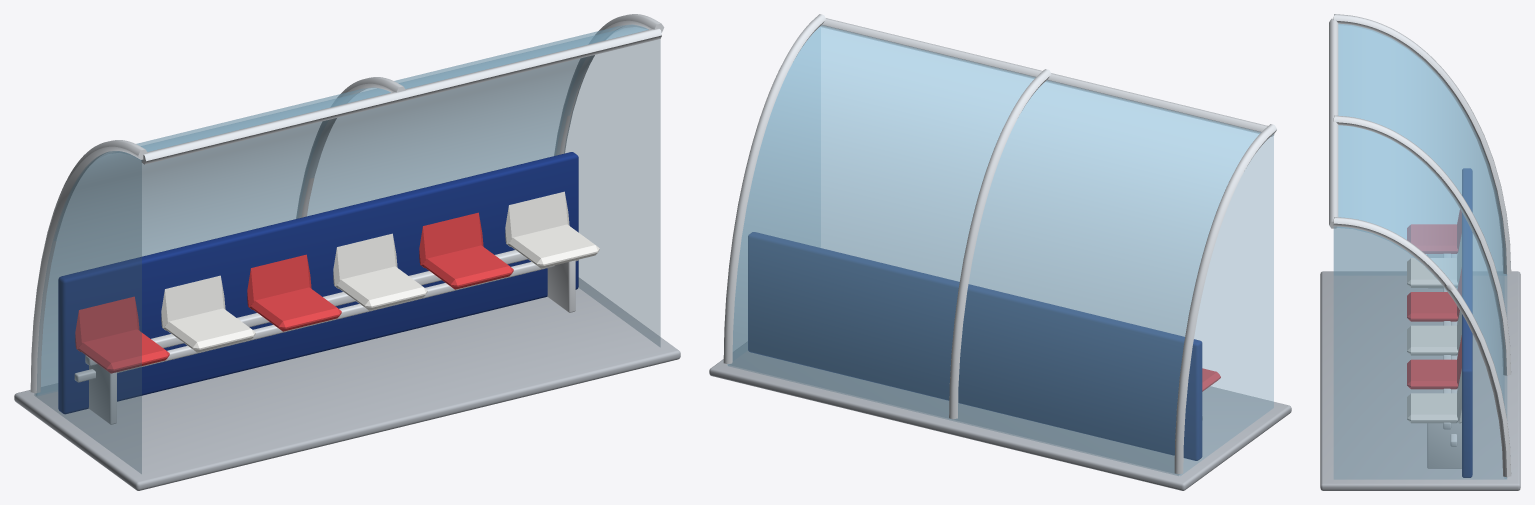
Rendered from banco_reservas_coberto.glb.
3 views of the same model, side by side, from view 1: azimuth 30°, elevation 25°; view 2: azimuth 150°, elevation 25°; view 3: azimuth 270°, elevation 25° (orthographic). The views are drawn at different scales.
Parts seen in each view (by area): view 1: banco_reservas_coberto; view 2: banco_reservas_coberto; view 3: banco_reservas_coberto.
Part boxes in pixels (<box>): banco_reservas_coberto: <box>14,14,680,490</box>; banco_reservas_coberto: <box>709,14,1291,490</box>; banco_reservas_coberto: <box>1320,14,1520,490</box>.
Size of the model in its own units: 3.8 by 2.22 by 1.5.
2 materials, 1 textured.
